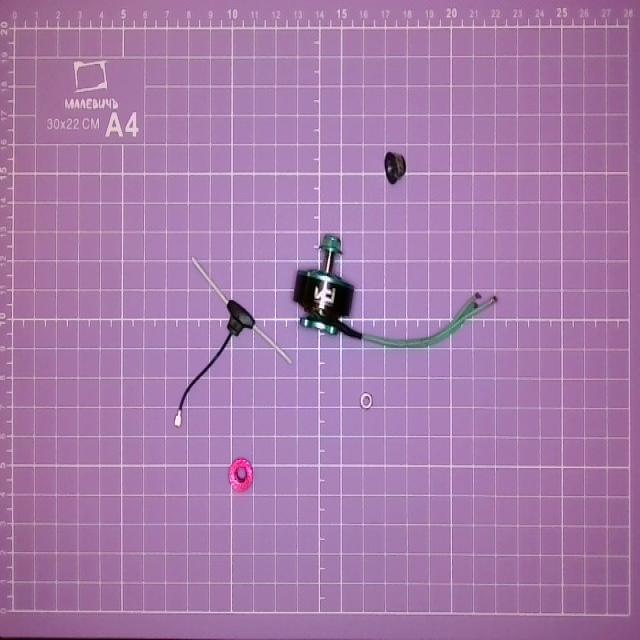antenna: (178, 256, 292, 433)
motor: (292, 231, 508, 351)
screw_M3: (359, 389, 374, 415)
screw_M5: (225, 450, 258, 490), (382, 144, 409, 186)
